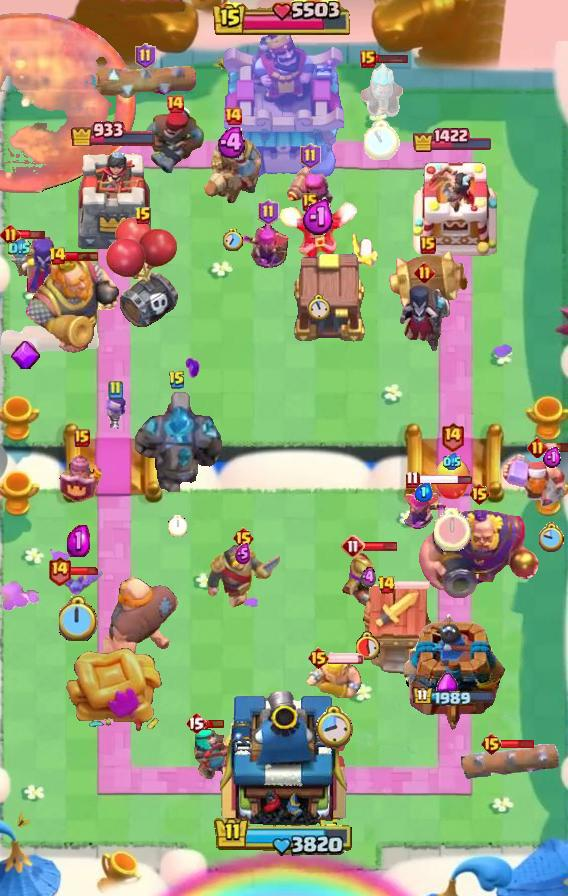archer-evolution: (397, 477, 451, 535), (242, 223, 294, 281)
bar: (418, 473, 473, 486), (327, 652, 365, 664), (11, 228, 46, 241), (394, 579, 431, 591), (64, 250, 100, 262), (501, 738, 536, 750), (363, 541, 398, 552), (374, 53, 409, 64), (69, 566, 101, 576), (546, 441, 568, 453), (205, 718, 225, 729)
bar-level: (47, 555, 72, 586), (440, 421, 465, 452), (341, 534, 365, 558), (480, 732, 503, 756), (307, 646, 330, 670), (232, 526, 255, 550), (468, 482, 491, 506), (258, 199, 279, 225), (300, 143, 321, 169), (135, 43, 156, 69), (185, 711, 207, 735), (527, 437, 548, 458), (414, 262, 435, 283), (0, 224, 21, 245), (223, 106, 243, 126), (165, 94, 185, 114), (377, 575, 396, 595), (48, 246, 67, 266), (168, 370, 186, 390), (134, 206, 152, 226), (107, 380, 123, 400), (74, 429, 90, 447), (420, 236, 436, 254), (302, 193, 318, 211), (360, 50, 376, 68), (405, 470, 420, 489)
barbarian: (305, 658, 363, 702)
barbarian-barrel: (386, 248, 470, 310)
bat-evolution: (48, 567, 108, 597)
clock: (59, 596, 98, 641), (315, 706, 353, 750), (434, 508, 471, 551), (364, 121, 400, 160), (539, 522, 565, 552), (356, 631, 381, 660), (307, 294, 331, 322), (223, 229, 243, 251), (168, 515, 187, 537)
elixir: (302, 199, 336, 236), (217, 127, 249, 158), (67, 525, 90, 557), (8, 238, 31, 259), (543, 447, 562, 468), (361, 566, 376, 589), (415, 483, 433, 502), (235, 543, 251, 564), (443, 453, 461, 471)
evolution-symbol: (434, 672, 460, 706), (10, 341, 40, 369)
firecracker: (286, 164, 334, 226)
guard: (58, 445, 106, 505)
hunter: (142, 105, 208, 175)
ice-wizard: (276, 200, 362, 274), (351, 61, 413, 121)
king-tower: (214, 684, 354, 826), (224, 29, 344, 181)
king-tower-bar: (214, 816, 354, 857), (213, 0, 355, 38)
knight: (206, 545, 280, 608)
lumberjack: (500, 452, 568, 508)
musketeer: (339, 551, 397, 621)
night-witch: (395, 282, 453, 354)
phoenix-egg: (432, 457, 472, 501)
queen-tower: (401, 612, 505, 731), (71, 145, 157, 256), (409, 154, 497, 256)
rascal-girl: (192, 727, 232, 779)
skeleton: (351, 232, 379, 272)
skeleton-evolution: (100, 393, 131, 429)
the-log: (94, 61, 197, 99), (0, 318, 100, 356), (461, 744, 559, 780)
tower-bar: (70, 118, 158, 146), (412, 127, 494, 153), (412, 686, 495, 708)
witch: (0, 237, 76, 299)
